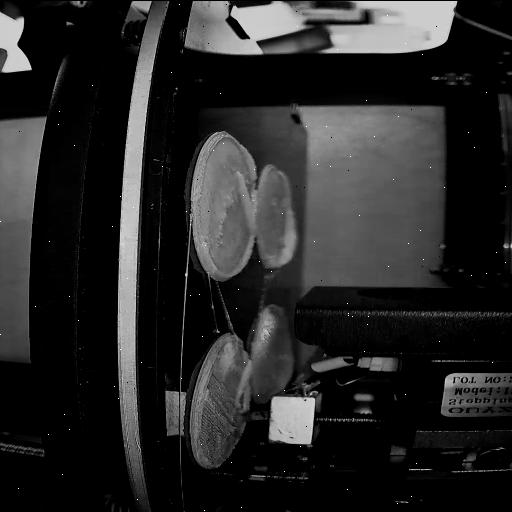over_extrusion: (200, 234, 258, 278), (231, 143, 257, 226), (268, 207, 300, 267), (234, 360, 252, 410)
